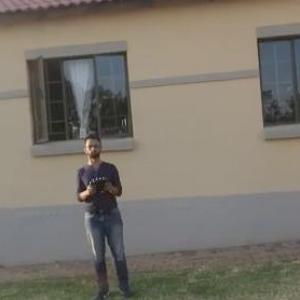follow: (72, 129, 137, 299)
